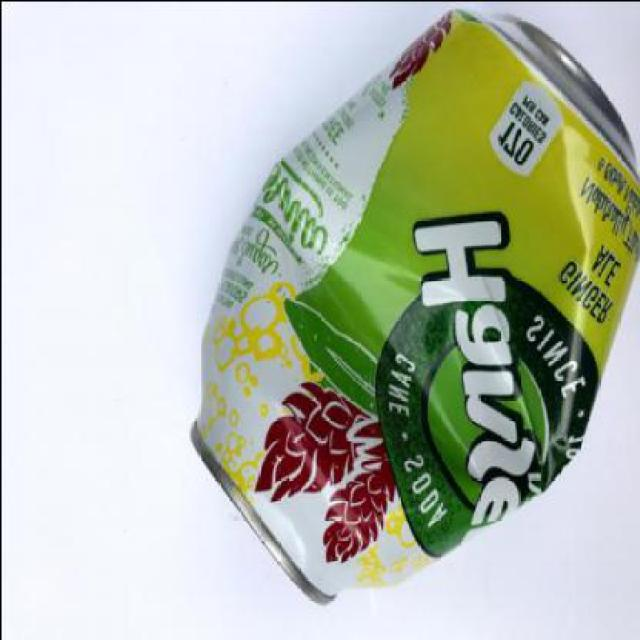metal: (184, 8, 638, 608)
